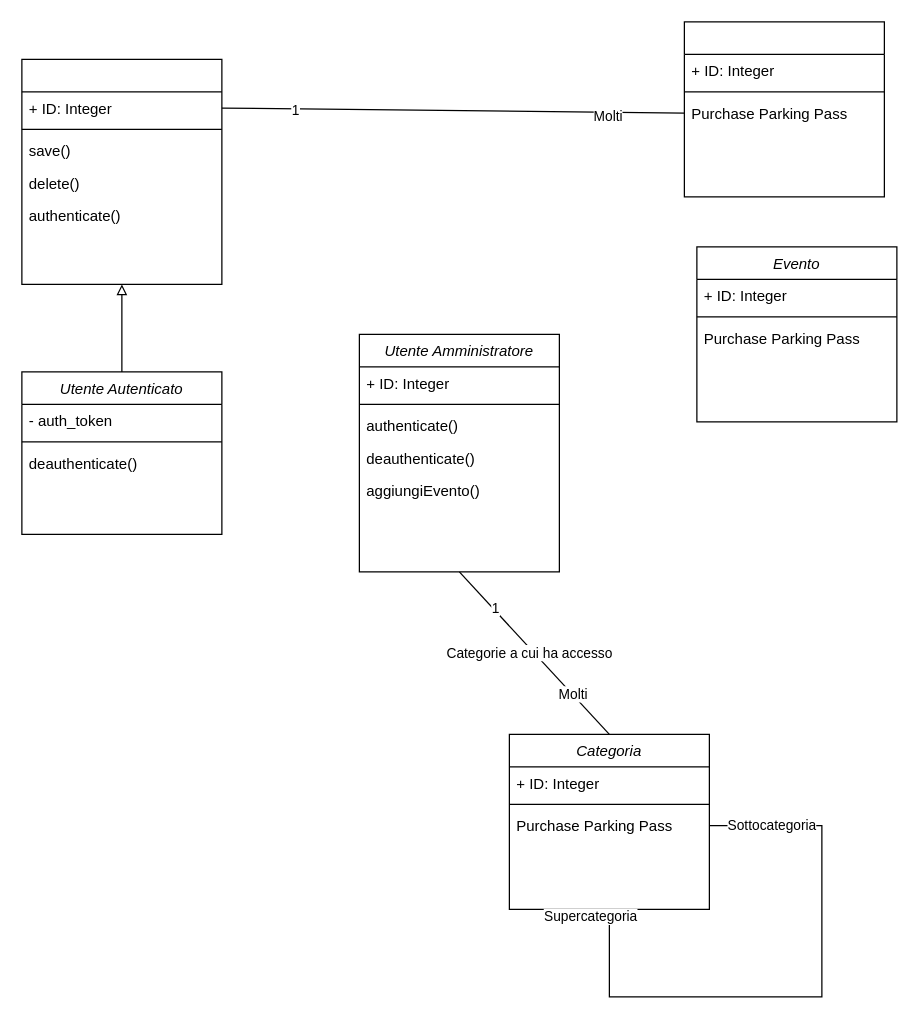
This 919x1020 diagram has some shape labels left out. The shapes that lost their labels are listed below. From the top down, each one's box as (x1, y1, x2, y2) in pixels, then its label:
(683, 21, 884, 197): Percorso
(21, 58, 222, 284): Utente
